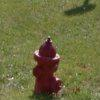Hydrant: (30, 31, 63, 100)
